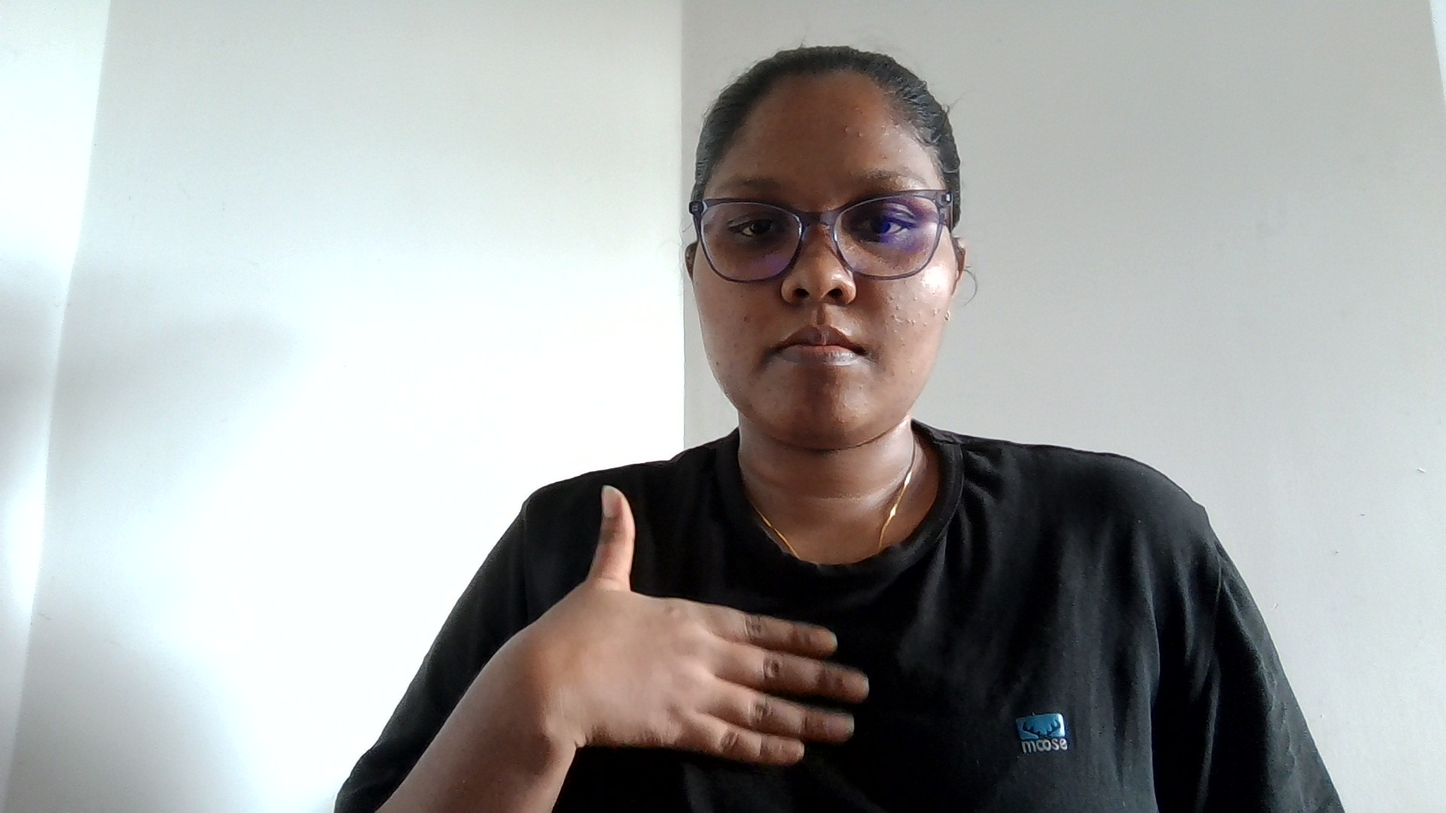Please: (256, 363, 939, 780)
